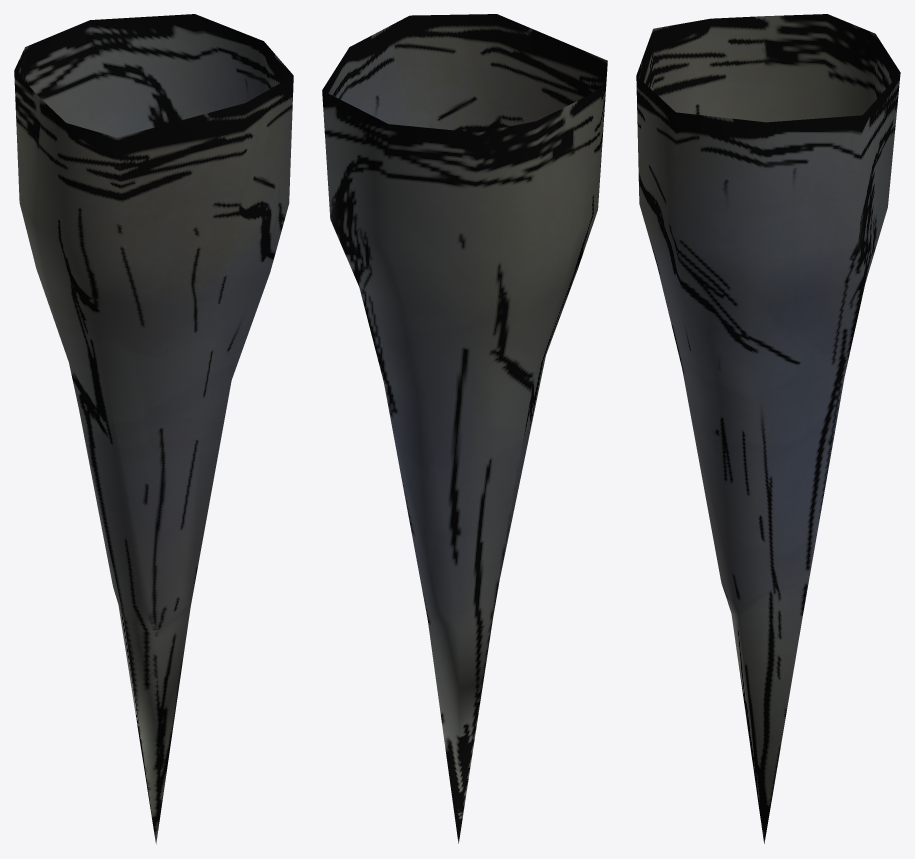
The model's file is Stalagmite_03.fbx.
3 views of the same model, side by side, from view 1: azimuth 30°, elevation 25°; view 2: azimuth 150°, elevation 25°; view 3: azimuth 270°, elevation 25° (orthographic).
Parts seen in each view (by area): view 1: Rock01:Mesh10; view 2: Rock01:Mesh10; view 3: Rock01:Mesh10.
Part boxes in pixels (bbox=[...]): Rock01:Mesh10: bbox=[14, 14, 293, 844]; Rock01:Mesh10: bbox=[322, 14, 607, 843]; Rock01:Mesh10: bbox=[636, 14, 900, 843].
Size of the model in its own units: 1.85 by 5.81 by 1.78.
